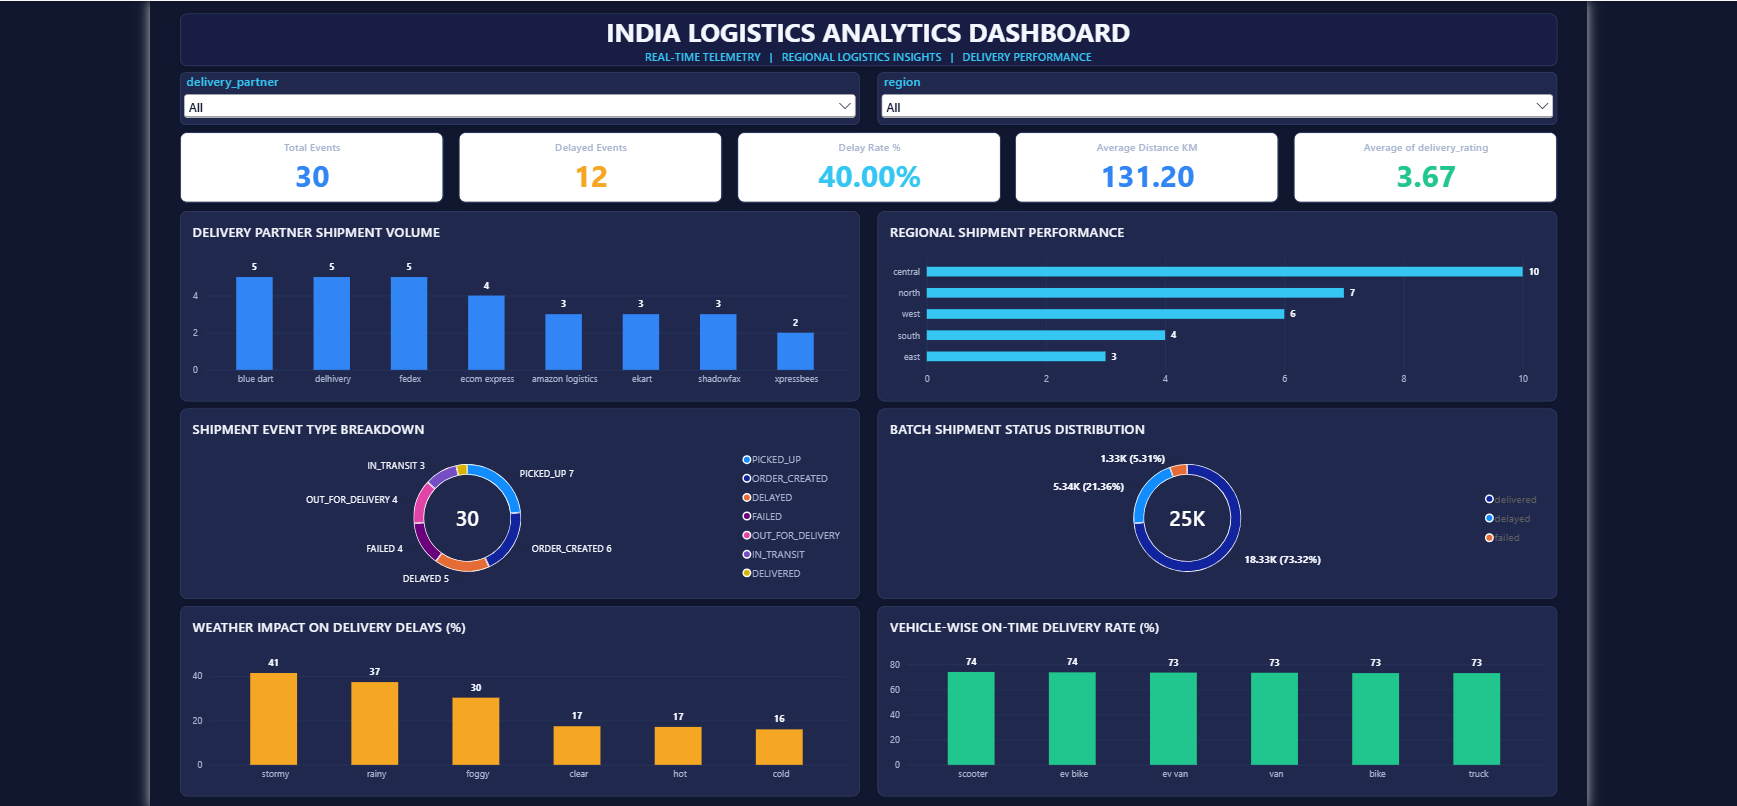

What the dashboard file says about the page in this screenshot:
{"tool":"powerbi","page":{"name":"India Logistics Analytics","canvas":[1920,1080],"ordinal":0},"visuals":[{"type":"textbox","box":[40,16,1840,70],"z":1000},{"type":"slicer","fields":{"Values":["streaming_shipment_events.delivery_partner"]},"box":[40,96,908,70],"z":2000},{"type":"slicer","fields":{"Values":["streaming_shipment_events.region"]},"box":[972,96,908,70],"z":2100},{"type":"cardVisual","fields":{"Data":["streaming_shipment_events.Total Events"]},"box":[40,176,352,94],"z":3000},{"type":"cardVisual","fields":{"Data":["streaming_shipment_events.Delayed Events"]},"box":[412,176,352,94],"z":3100},{"type":"cardVisual","fields":{"Data":["streaming_shipment_events.Delay Rate %"]},"box":[784,176,352,94],"z":3200},{"type":"cardVisual","fields":{"Data":["streaming_shipment_events.Average Distance KM"]},"box":[1156,176,352,94],"z":3300},{"type":"cardVisual","fields":{"Data":["Avg(fact_shipments.delivery_rating)"]},"box":[1528,176,352,94],"z":3400},{"type":"clusteredColumnChart","title":"DELIVERY PARTNER SHIPMENT VOLUME","fields":{"Category":["streaming_shipment_events.delivery_partner"],"Y":["CountNonNull(streaming_shipment_events.event_id)"]},"box":[40,280,908,254],"z":4000},{"type":"clusteredBarChart","title":"REGIONAL SHIPMENT PERFORMANCE","fields":{"Category":["streaming_shipment_events.region"],"Y":["CountNonNull(streaming_shipment_events.event_id)"]},"box":[972,280,908,254],"z":4100},{"type":"donutChart","title":"SHIPMENT EVENT TYPE BREAKDOWN","fields":{"Category":["streaming_shipment_events.event_type"],"Y":["CountNonNull(streaming_shipment_events.event_id)"]},"box":[40,544,908,254],"z":5000},{"type":"donutChart","title":"BATCH SHIPMENT STATUS DISTRIBUTION","fields":{"Category":["fact_shipments.delivery_status"],"Y":["CountNonNull(fact_shipments.shipment_pk)"]},"box":[972,544,908,254],"z":5100},{"type":"clusteredColumnChart","title":"WEATHER IMPACT ON DELIVERY DELAYS (%)","fields":{"Category":["gold_weather_impact.weather_condition"],"Y":["Avg(gold_weather_impact.delay_rate_pct)"]},"box":[40,808,908,254],"z":6000},{"type":"clusteredColumnChart","title":"VEHICLE-WISE ON-TIME DELIVERY RATE (%)","fields":{"Category":["gold_vehicle_efficiency.vehicle_type"],"Y":["Avg(gold_vehicle_efficiency.on_time_pct)"]},"box":[972,808,908,254],"z":6100}]}

Visuals, with their boxes on the page's 1920x1080 design canvas (x1, y1, x2, y2). These are canvas units, not pixel positions in the 1737x806 screenshot, which may show the page scaled, cropped or inside an application window:
textbox: select_region(40, 16, 1880, 86)
slicer - streaming_shipment_events.delivery_partner: select_region(40, 96, 948, 166)
slicer - streaming_shipment_events.region: select_region(972, 96, 1880, 166)
cardVisual - streaming_shipment_events.Total Events: select_region(40, 176, 392, 270)
cardVisual - streaming_shipment_events.Delayed Events: select_region(412, 176, 764, 270)
cardVisual - streaming_shipment_events.Delay Rate %: select_region(784, 176, 1136, 270)
cardVisual - streaming_shipment_events.Average Distance KM: select_region(1156, 176, 1508, 270)
cardVisual - Avg(fact_shipments.delivery_rating): select_region(1528, 176, 1880, 270)
"DELIVERY PARTNER SHIPMENT VOLUME" clusteredColumnChart: select_region(40, 280, 948, 534)
"REGIONAL SHIPMENT PERFORMANCE" clusteredBarChart: select_region(972, 280, 1880, 534)
"SHIPMENT EVENT TYPE BREAKDOWN" donutChart: select_region(40, 544, 948, 798)
"BATCH SHIPMENT STATUS DISTRIBUTION" donutChart: select_region(972, 544, 1880, 798)
"WEATHER IMPACT ON DELIVERY DELAYS (%)" clusteredColumnChart: select_region(40, 808, 948, 1062)
"VEHICLE-WISE ON-TIME DELIVERY RATE (%)" clusteredColumnChart: select_region(972, 808, 1880, 1062)
